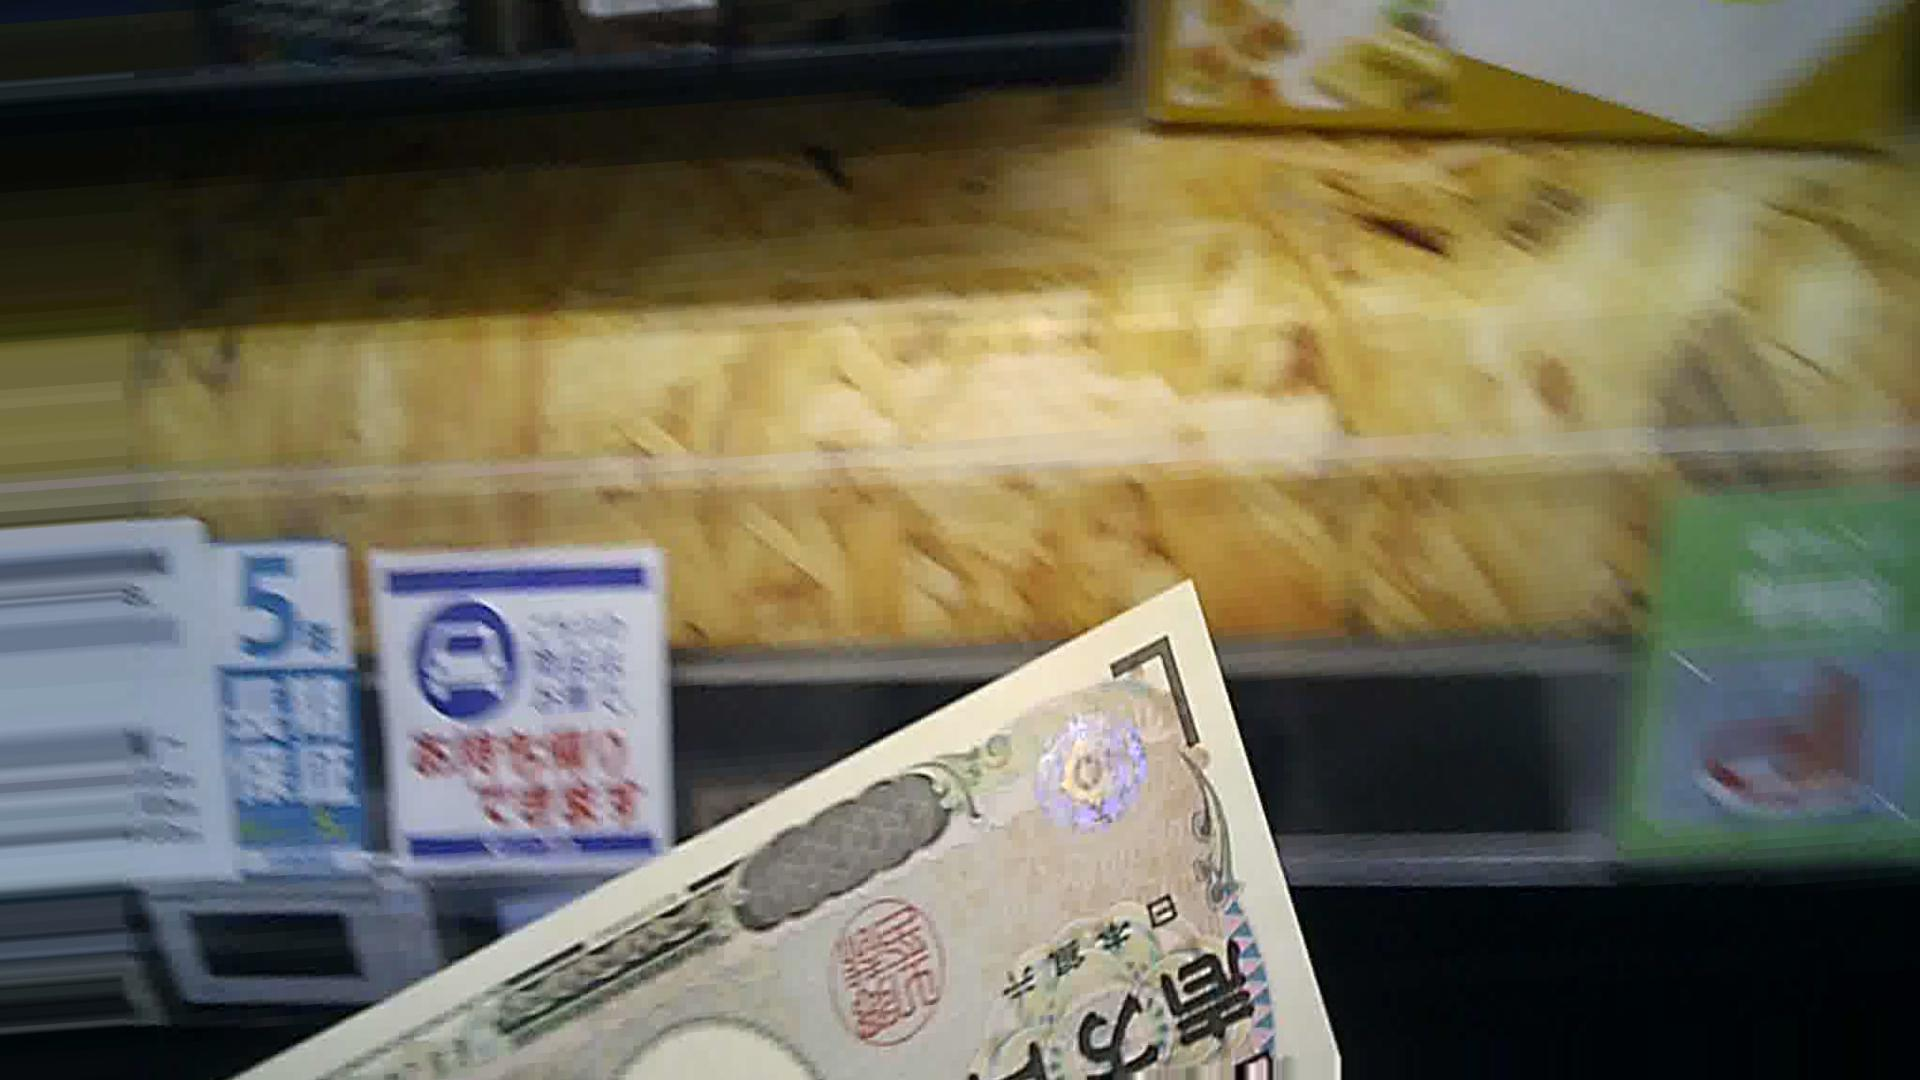10,000 Yen: (265, 488, 1350, 1065)
